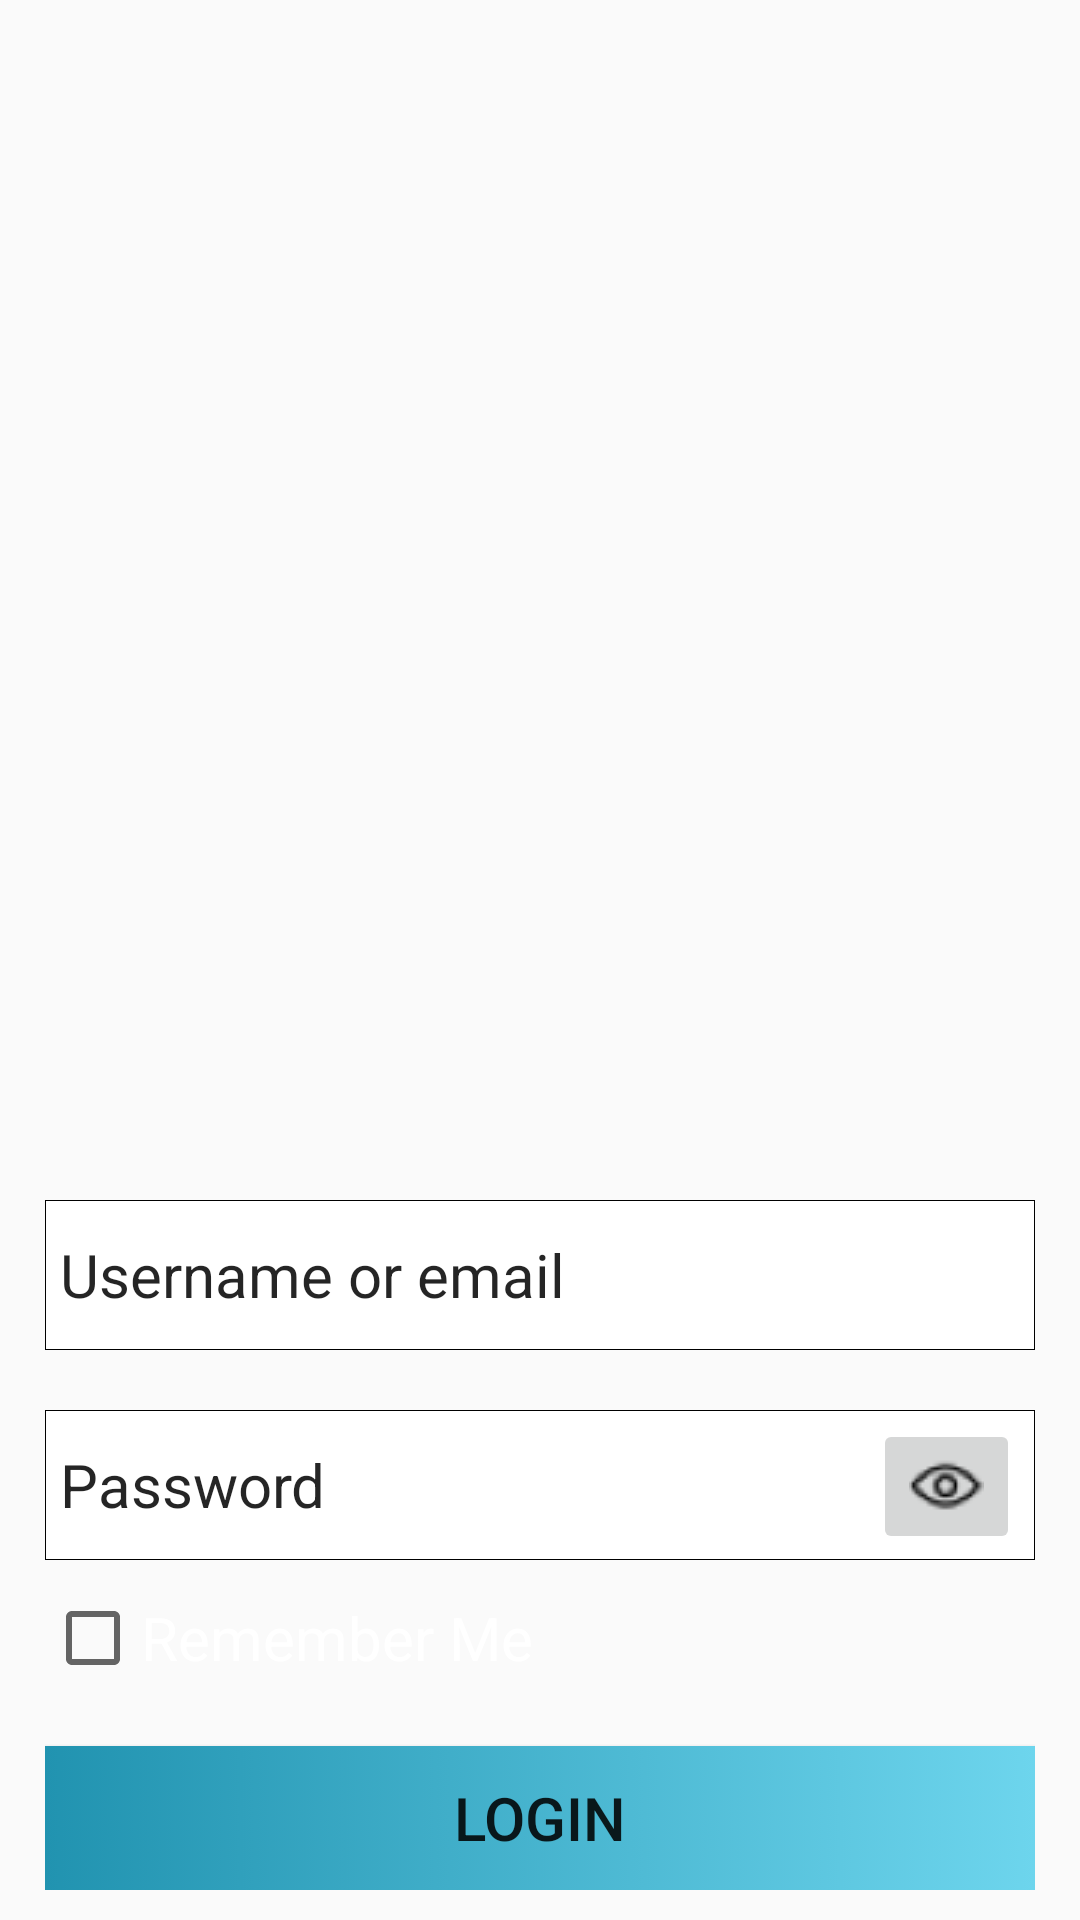

Icons on this 1080*1920 Android screen, each with its box as detection(x1, y1, x2, y2):
view: detection(885, 1437, 1008, 1536)
